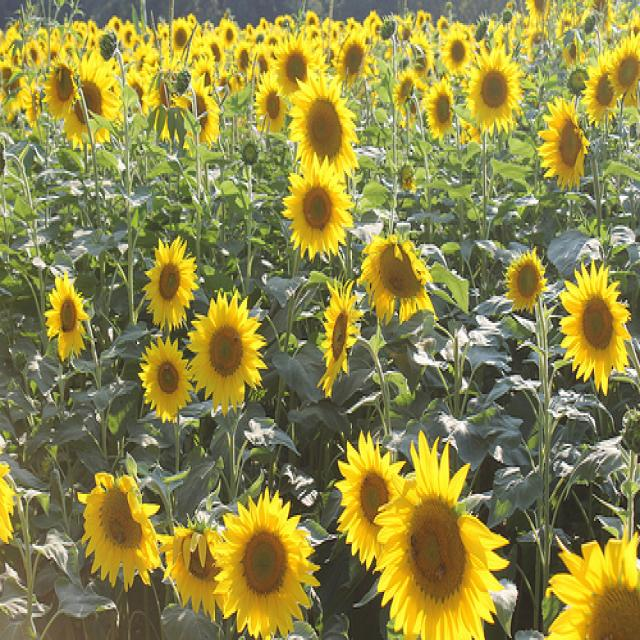sunflower: (387, 454, 493, 640), (213, 493, 315, 636), (84, 468, 162, 589), (564, 261, 631, 394), (556, 534, 640, 640), (191, 300, 265, 412), (341, 442, 400, 566), (156, 516, 220, 629), (294, 84, 358, 186), (364, 233, 434, 318), (286, 167, 349, 256), (69, 54, 119, 147), (140, 343, 197, 420), (148, 245, 196, 330), (540, 101, 592, 178), (470, 61, 521, 136), (46, 275, 88, 354), (605, 39, 640, 107), (274, 42, 315, 100), (584, 58, 620, 123), (331, 31, 372, 88), (189, 84, 223, 147), (510, 251, 544, 310), (44, 60, 78, 119), (257, 74, 290, 134), (425, 81, 458, 140), (440, 30, 476, 75), (166, 16, 194, 54), (526, 0, 553, 23)
